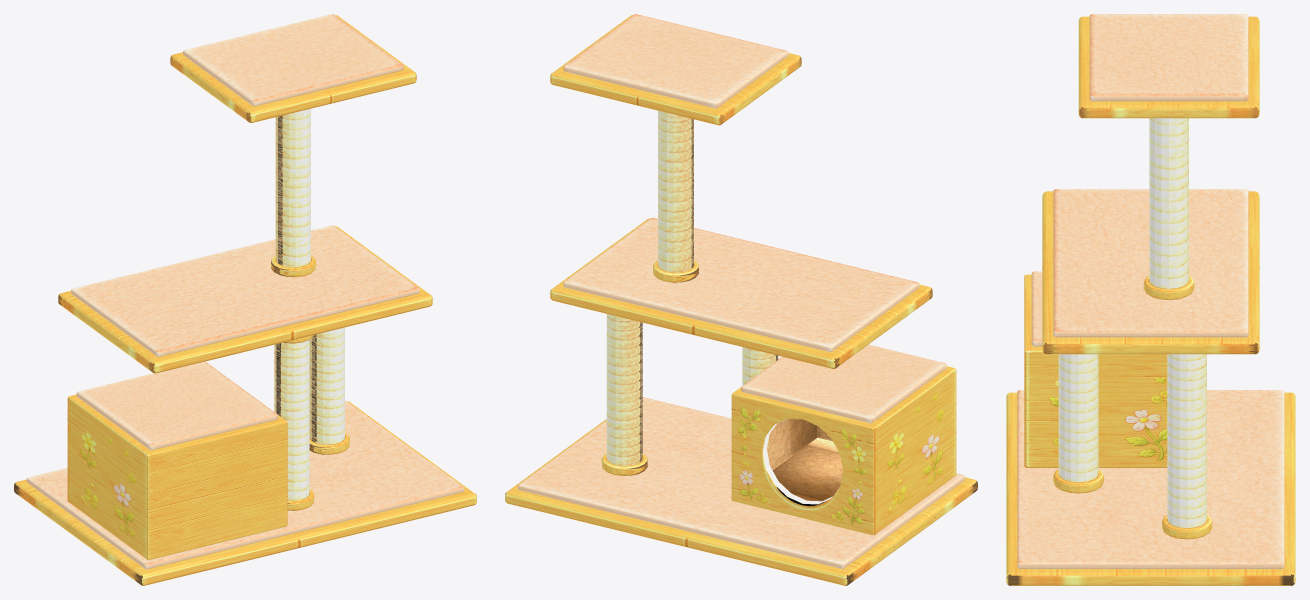
The model's file is cat_tower_pink_01_muted_unlit.glb.
The picture shows the model from 3 angles, left to right: view 1: azimuth 30°, elevation 25°; view 2: azimuth 150°, elevation 25°; view 3: azimuth 270°, elevation 25°; orthographic projection. The views are drawn at different scales.
Parts seen in each view (by area): view 1: cat_tower_mesh; view 2: cat_tower_mesh; view 3: cat_tower_mesh.
Boxes of the visible parts, left/top/right/bottom form: cat_tower_mesh: left=14, top=14, right=476, bottom=585; cat_tower_mesh: left=505, top=14, right=977, bottom=585; cat_tower_mesh: left=1006, top=14, right=1295, bottom=585.
Bounding box in the file's own units: 2.4 × 2.88 × 1.6.
25 materials, 24 textured.
